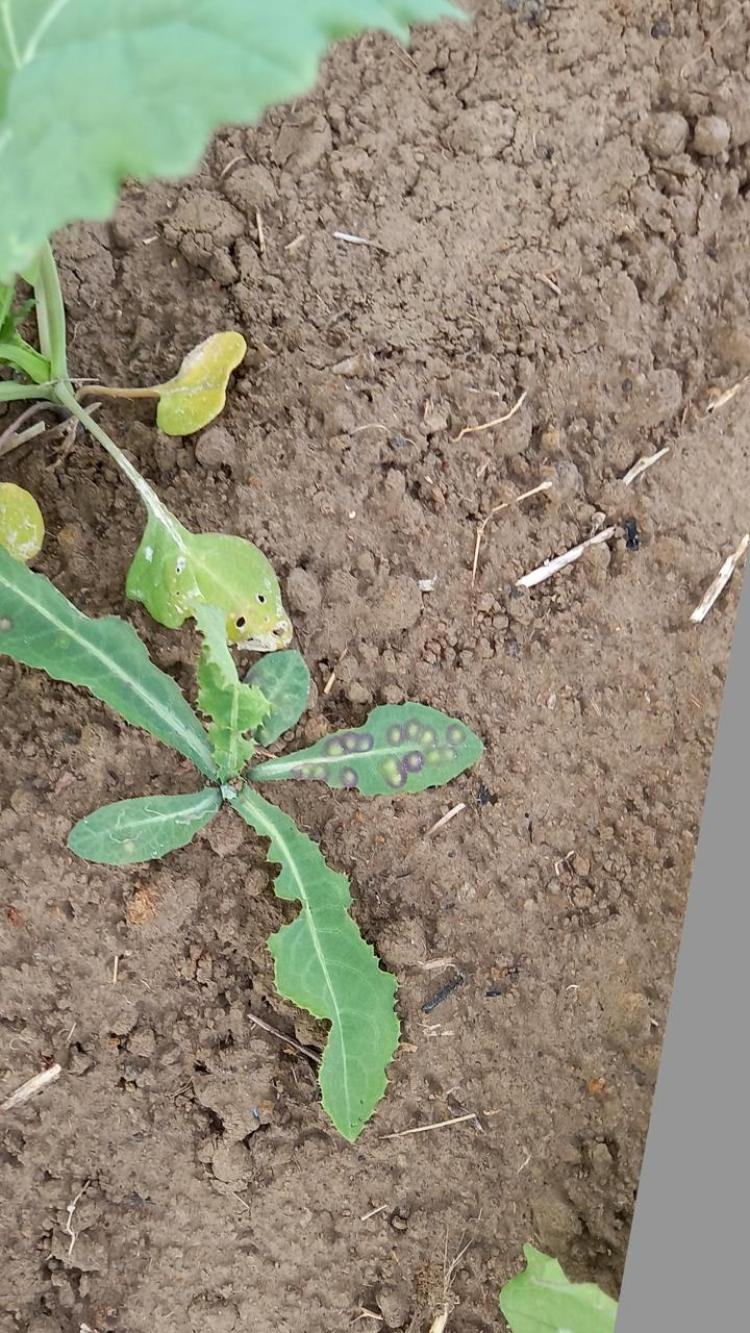bodyak: (0, 548, 488, 1141)
